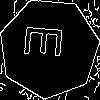E: (24, 23, 72, 61)
